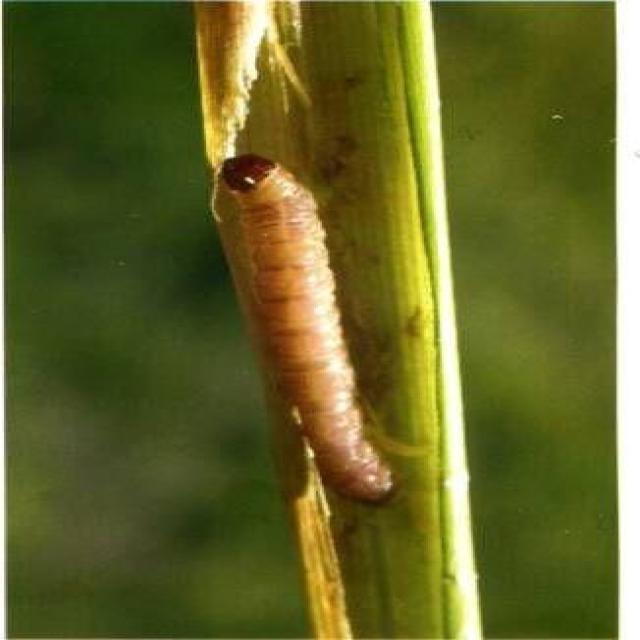peach borer: (202, 158, 416, 510)
